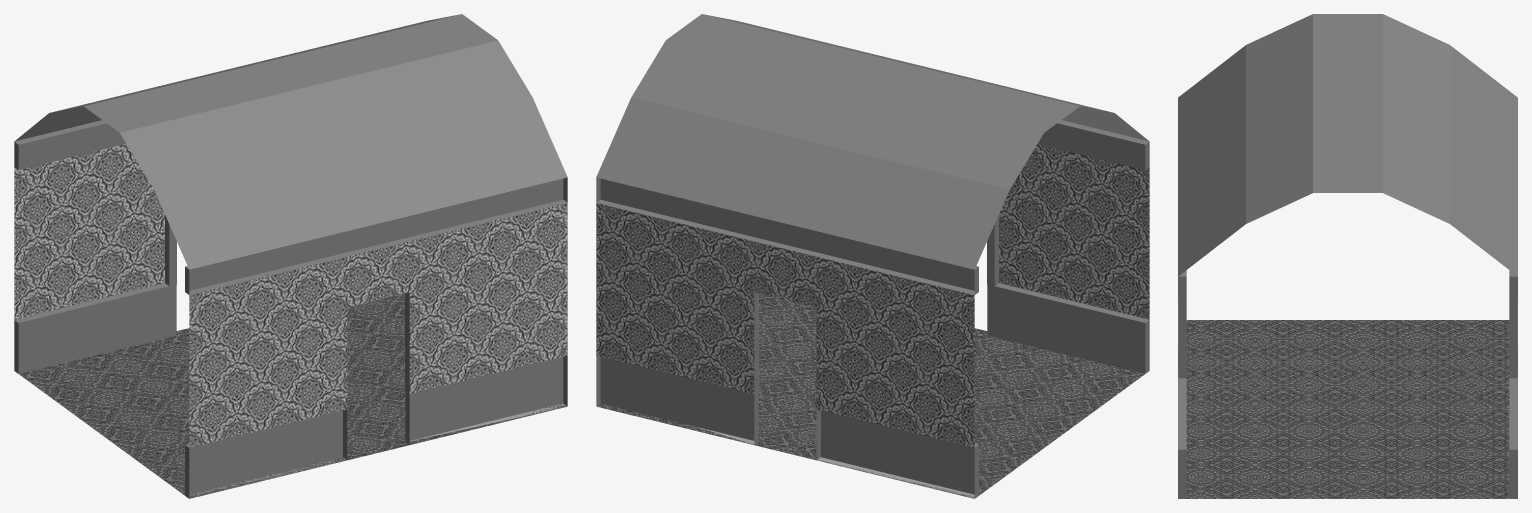
The model's file is Hallway_Doorway.fbx.
3 views of the same model, side by side, from view 1: azimuth 30°, elevation 25°; view 2: azimuth 150°, elevation 25°; view 3: azimuth 270°, elevation 25° (orthographic). The views are drawn at different scales.
Visible parts, largest first — view 1: Hallway_Doorway; view 2: Hallway_Doorway; view 3: Hallway_Doorway.
Boxes of the visible parts, x1=… form: Hallway_Doorway: x1=14, y1=14, x2=567, y2=498; Hallway_Doorway: x1=596, y1=14, x2=1149, y2=498; Hallway_Doorway: x1=1178, y1=14, x2=1517, y2=498.
Size of the model in its own units: 7.49 by 5.96 by 6.
4 materials, 2 textured.
